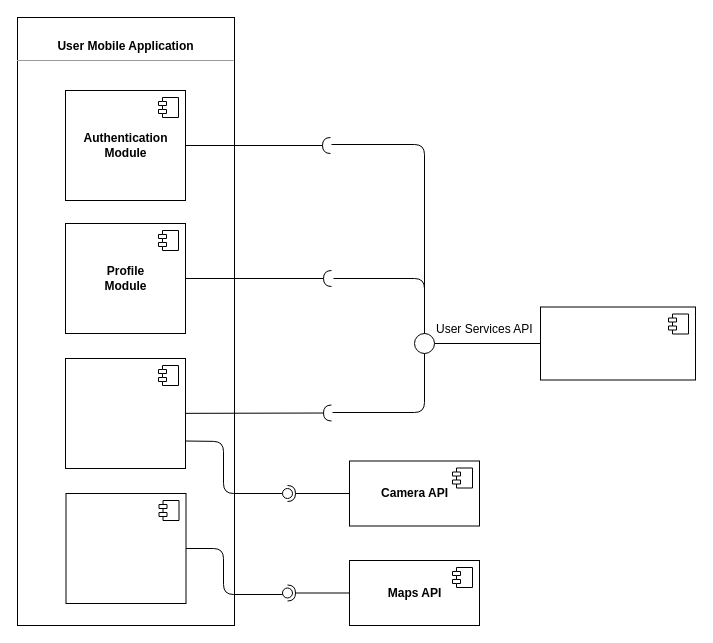
The diagram is 713 pixels wide and 643 high, and some of its shapes have lost their labels. The centre of each missing label's shape, as x and y in pixels:
Main Thread Module: (x=125, y=548)
User Application Services: (x=618, y=343)
Violations Report Module: (x=125, y=413)
